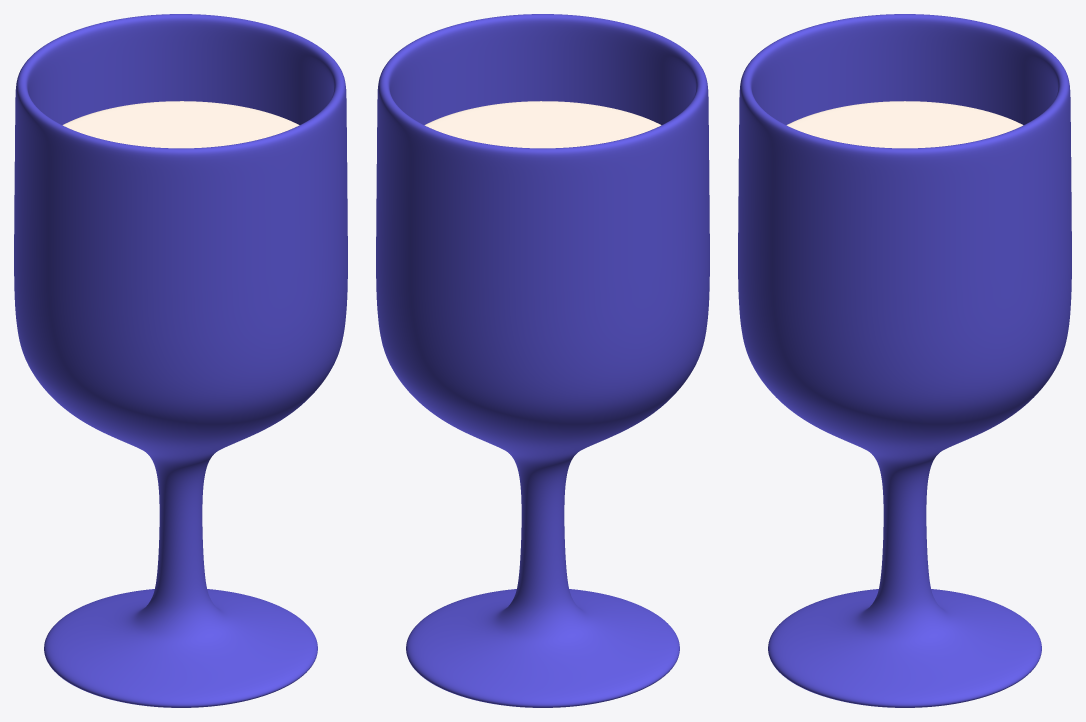
Rendered from glass.glb.
3 views of the same model, side by side, from view 1: azimuth 30°, elevation 25°; view 2: azimuth 150°, elevation 25°; view 3: azimuth 270°, elevation 25° (orthographic).
Parts seen in each view (by area): view 1: glass, Water; view 2: glass, Water; view 3: glass, Water.
Boxes of the visible parts, x1,y1,x2,y2 form: glass: (14,14,347,707); Water: (62,101,299,148); glass: (376,14,709,707); Water: (424,101,661,148); glass: (738,14,1071,707); Water: (786,101,1023,148).
Size of the model in its own units: 0.9995 by 1.88 by 0.9995.
